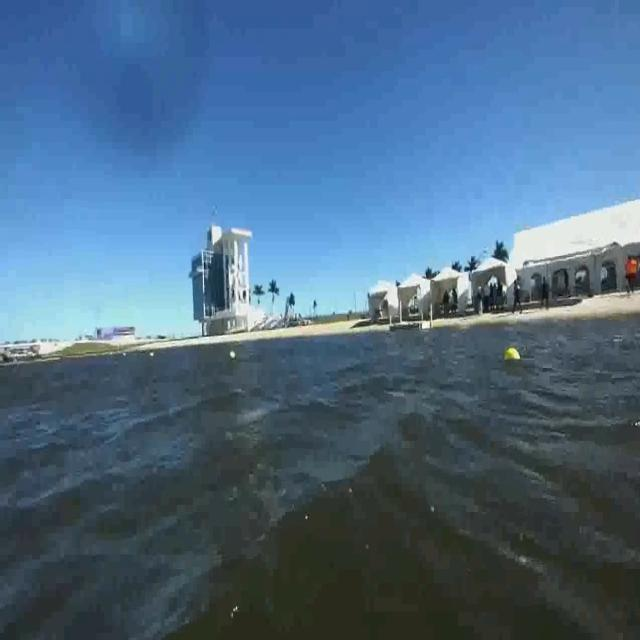yellow-buoy: (503, 348, 519, 362)
